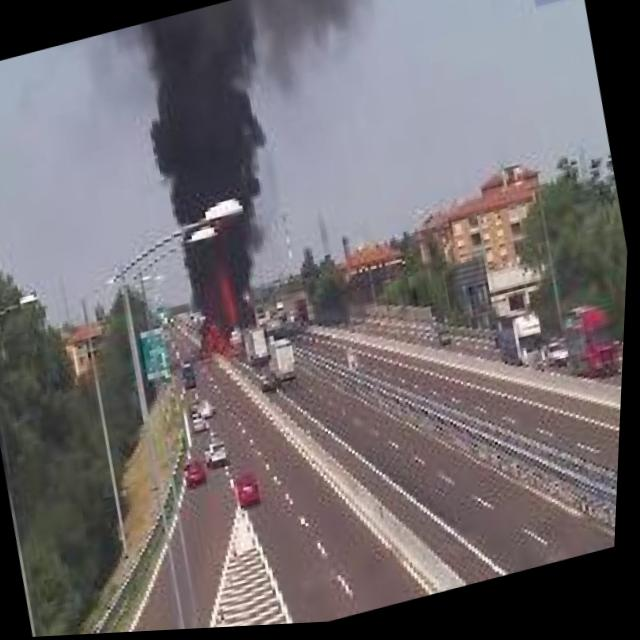fire: (185, 264, 257, 371)
